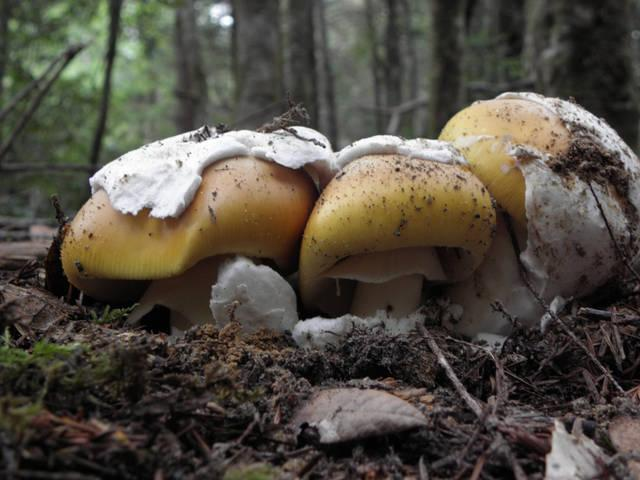edible_mushroom: (58, 122, 333, 340), (436, 89, 639, 347), (295, 133, 497, 344)
